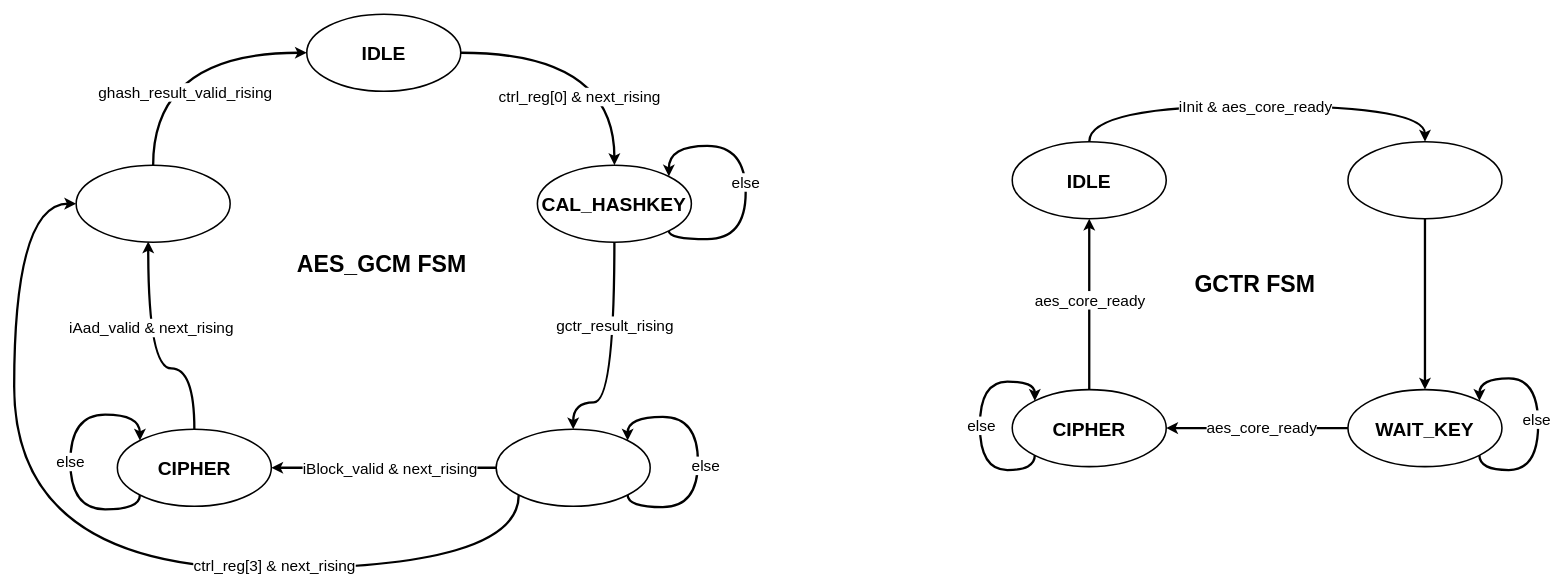
This 1564x587 diagram has some shape labels left out. Here are the shapes that lost their labels. From the top down, the centre of each, then its label:
At point (1424, 180): "INIT_AES".
At point (153, 203): "TAG".
At point (573, 467): "CAL_AAD".
